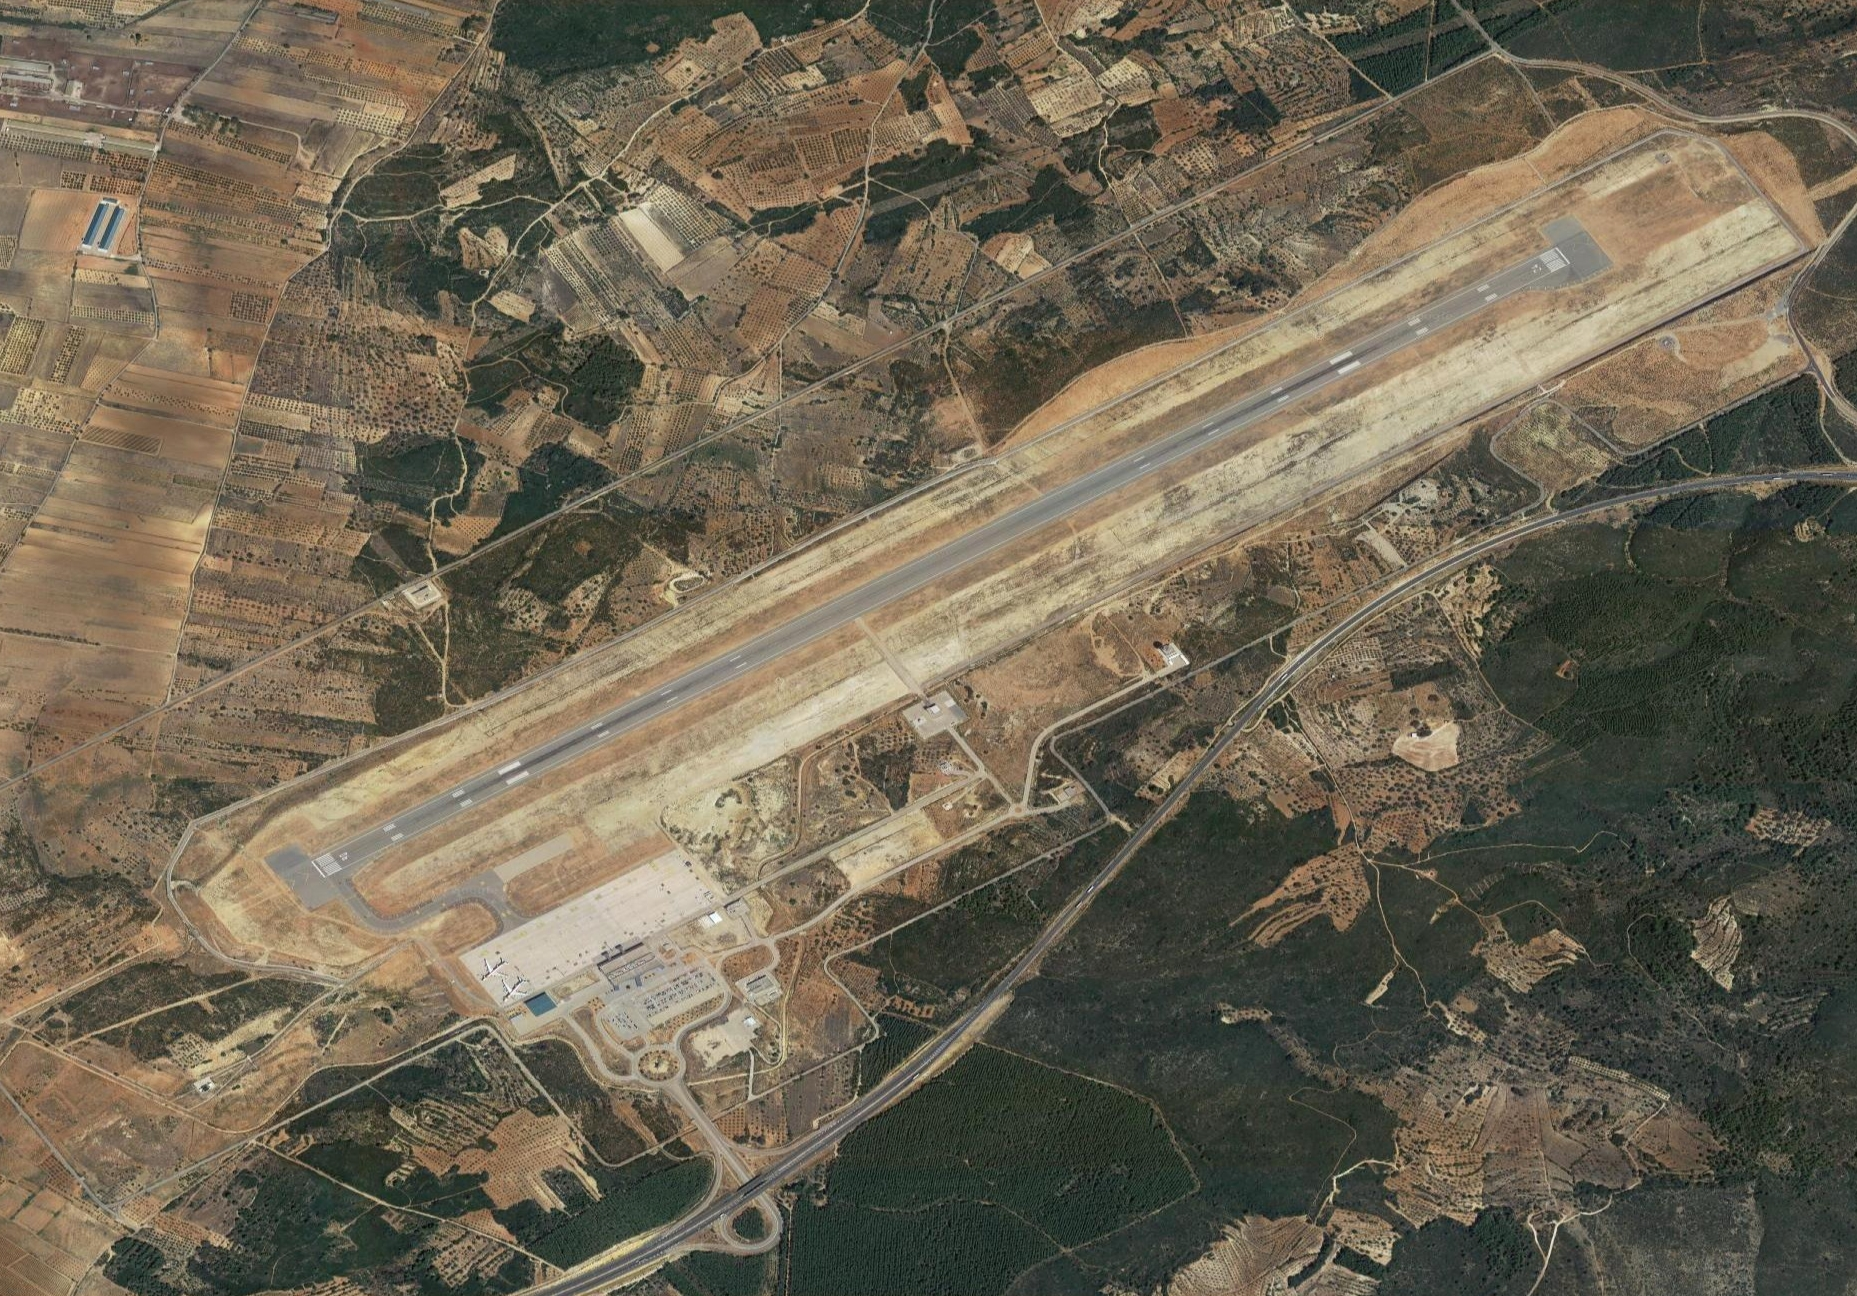airport: (257, 205, 1619, 1050)
motorway: (515, 1168, 770, 1296), (762, 1018, 972, 1170), (957, 848, 1133, 1016), (1247, 575, 1401, 714), (1125, 700, 1252, 858), (1401, 496, 1576, 596), (1573, 450, 1744, 522), (1740, 450, 1857, 500)
